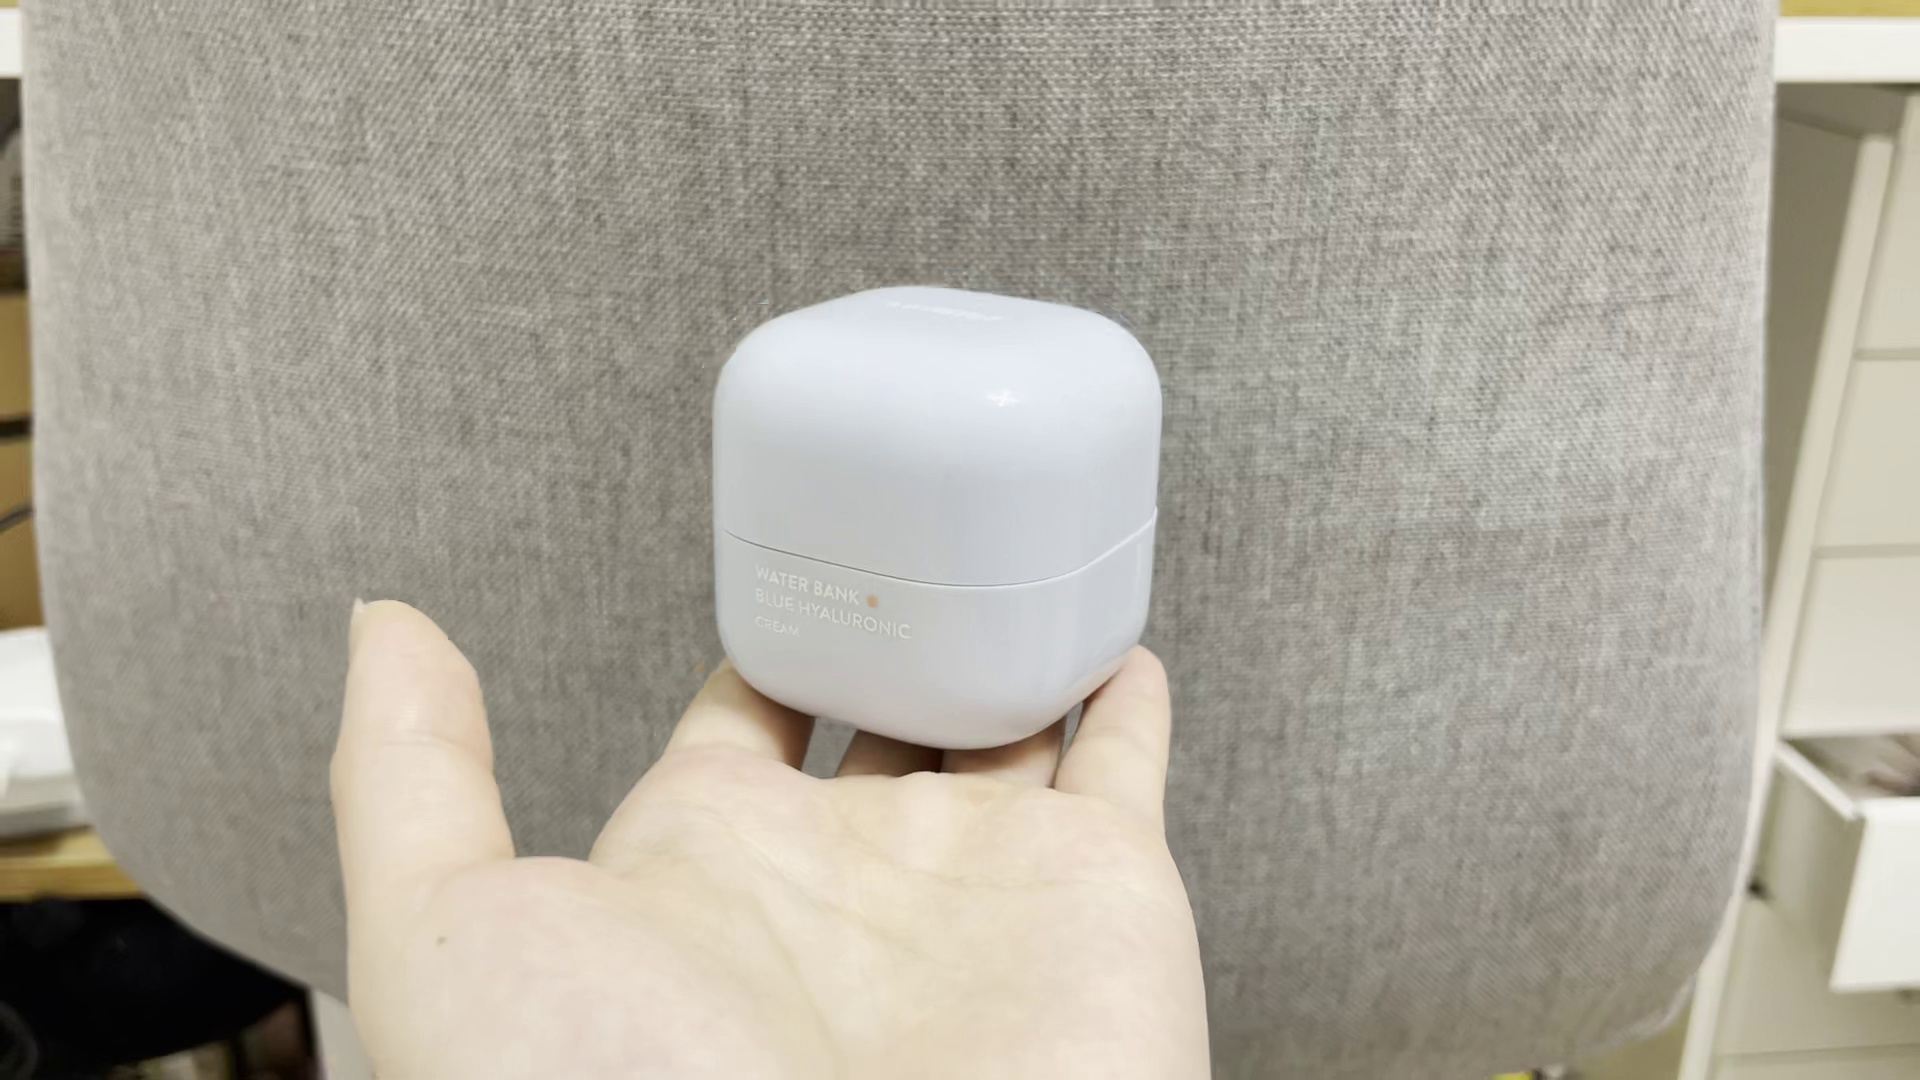cream: (709, 284, 1154, 750)
